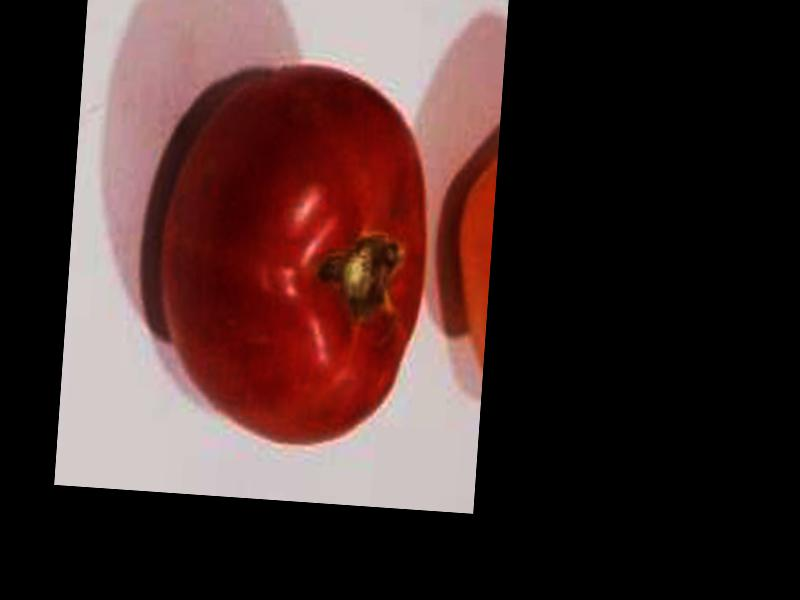Tomato: (152, 60, 436, 452)
